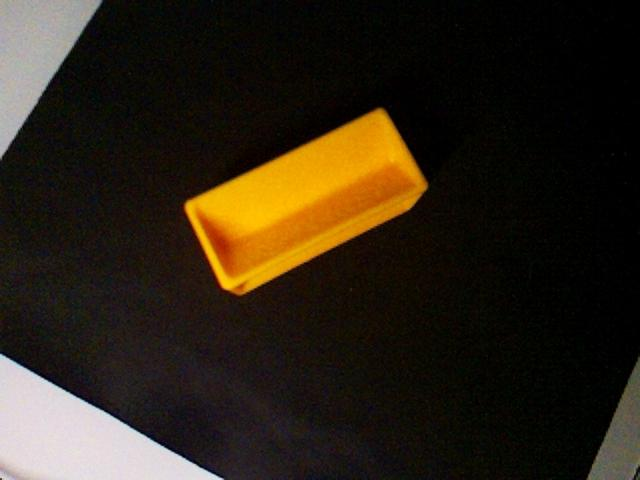yellow: (183, 106, 430, 297)
